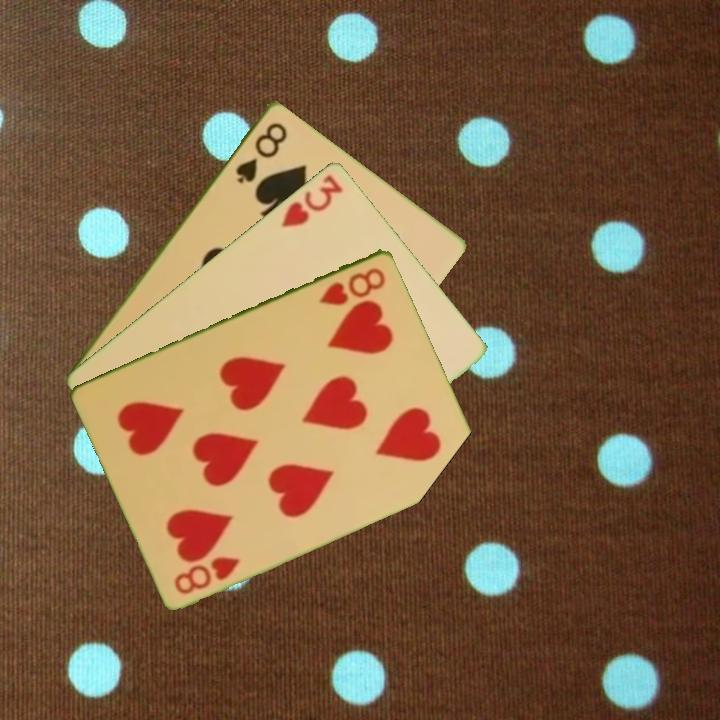3h: (277, 170, 346, 230)
8h: (315, 263, 389, 308), (170, 552, 243, 597)
8s: (232, 118, 290, 186)
